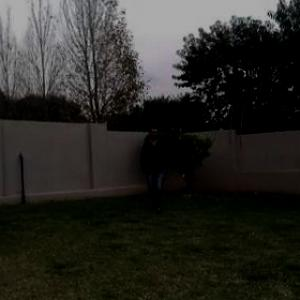follow: (146, 125, 168, 216)
